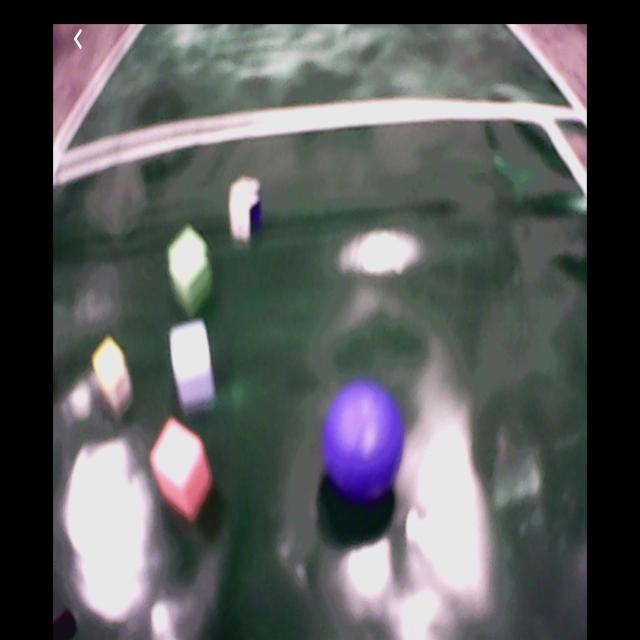ball: (325, 378, 403, 502)
